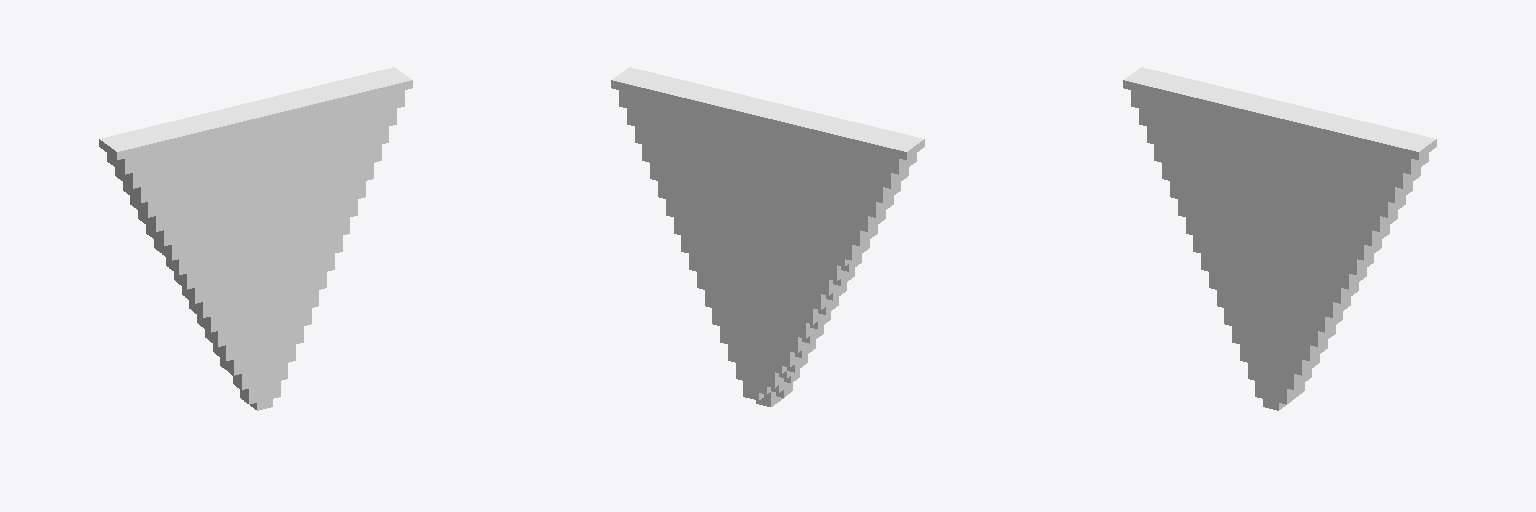
File: v_plizei_Wappen.obj
3 views of the same model, side by side, from view 1: azimuth 30°, elevation 25°; view 2: azimuth 150°, elevation 25°; view 3: azimuth 330°, elevation 25° (orthographic).
Parts seen in each view (by area): view 1: object 1; view 2: object 1; view 3: object 1.
Boxes of the visible parts, x1=… form: object 1: x1=99, y1=67, x2=412, y2=410; object 1: x1=611, y1=67, x2=924, y2=406; object 1: x1=1123, y1=67, x2=1436, y2=410.
Size of the model in its own units: 3.8 by 3.6 by 0.4.